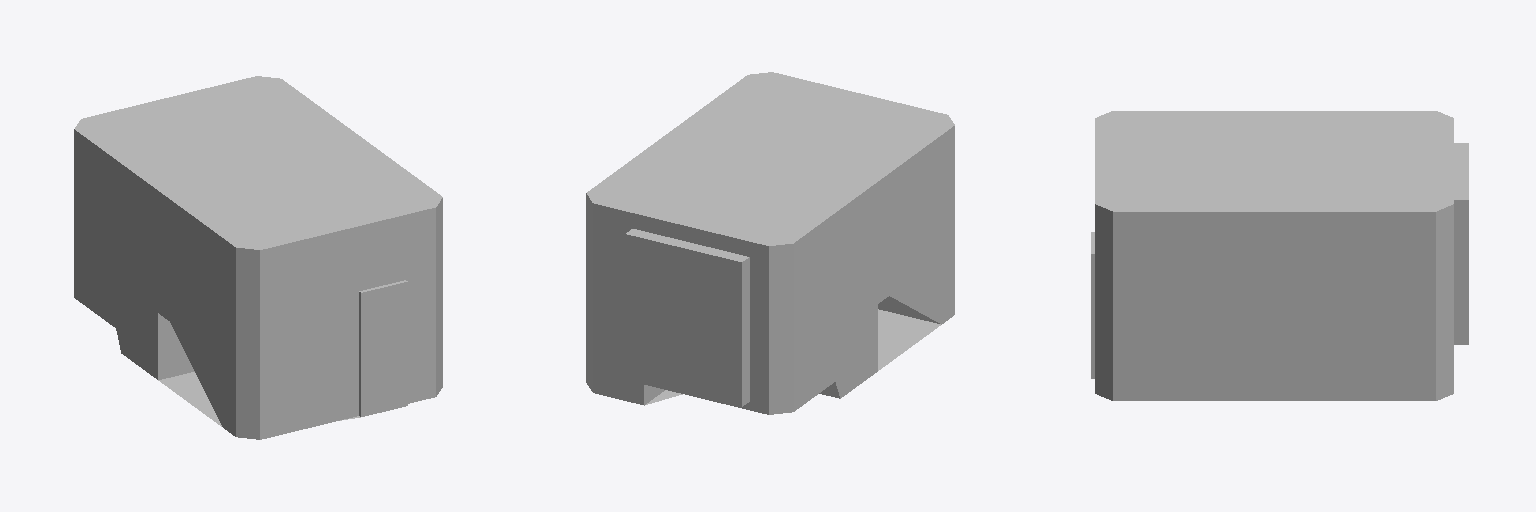
The model's file is bedroom.obj.
3 renders of one model, left to right at view 1: azimuth 30°, elevation 25°; view 2: azimuth 150°, elevation 25°; view 3: azimuth 270°, elevation 25°, orthographic.
Visible parts, largest first — view 1: Mesh1 Model; view 2: Mesh1 Model; view 3: Mesh1 Model.
Part boxes in pixels (x1,y1,x2,y2): Mesh1 Model: (74, 76, 442, 439); Mesh1 Model: (586, 72, 954, 414); Mesh1 Model: (1091, 111, 1468, 400).
Size of the model in its own units: 4 by 3.5 by 6.32.